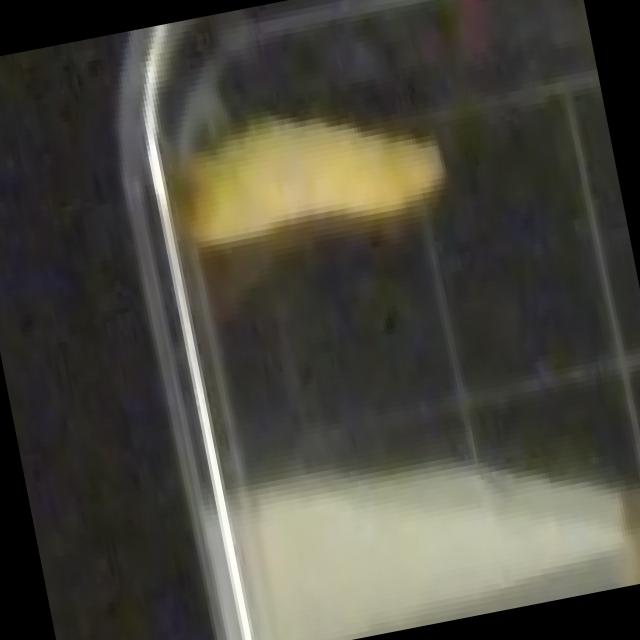larva: (152, 64, 468, 284)
